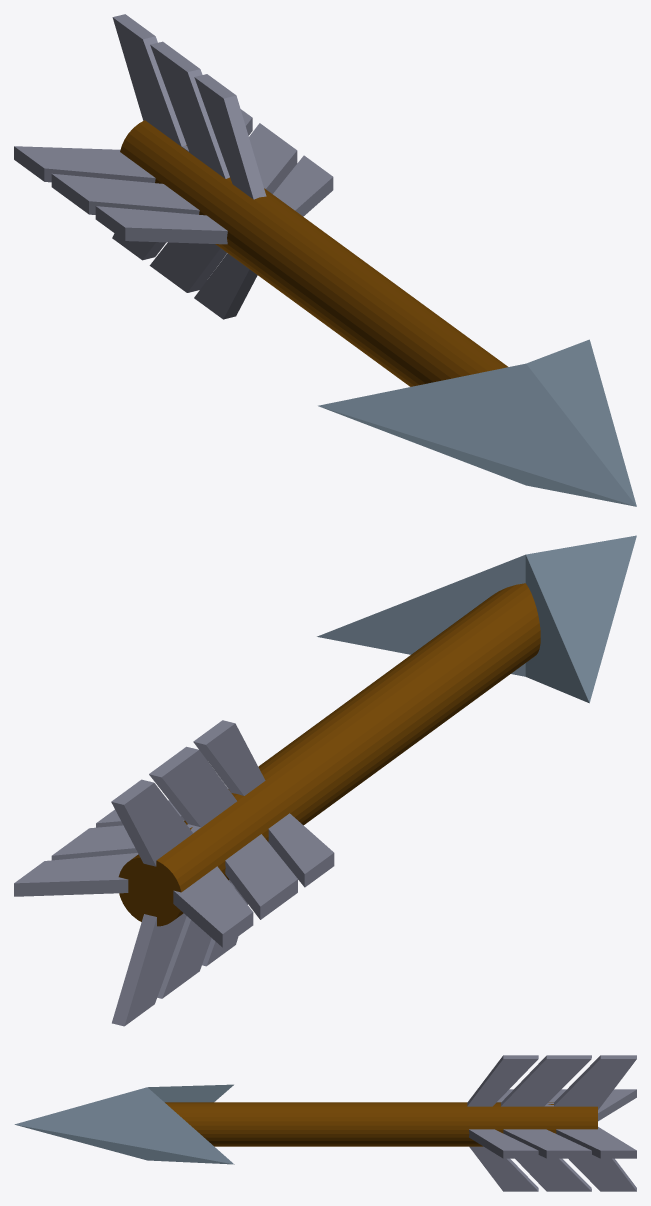
Rendered from Arrow.fbx.
3 renders of one model, top to bottom at view 1: azimuth 30°, elevation 25°; view 2: azimuth 150°, elevation 25°; view 3: azimuth 270°, elevation 25°, orthographic. The views are drawn at different scales.
Parts seen in each view (by area): view 1: Arrow; view 2: Arrow; view 3: Arrow.
Boxes of the visible parts, bbox=[...] form: Arrow: bbox=[14, 14, 636, 506]; Arrow: bbox=[14, 535, 636, 1026]; Arrow: bbox=[14, 1055, 636, 1191].
Size of the model in its own units: 424 by 329 by 1398.
